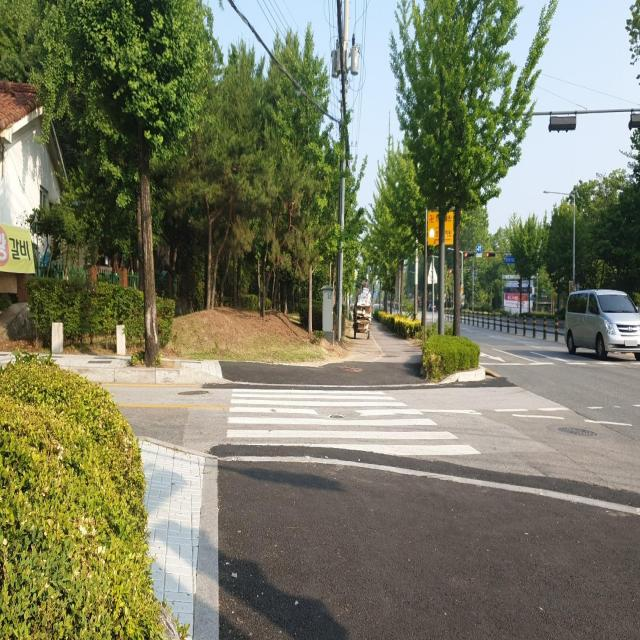횡단보도: (225, 387, 482, 458)
